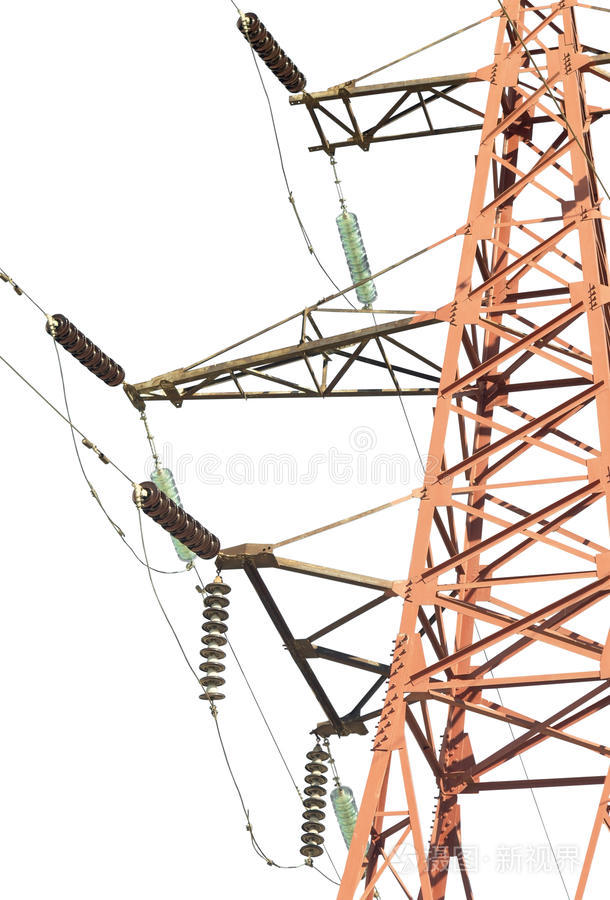insulator: (129, 480, 225, 553), (47, 313, 126, 388), (236, 14, 310, 88), (197, 581, 231, 702), (336, 211, 378, 304), (150, 468, 191, 562), (299, 745, 330, 858), (328, 790, 363, 852)
